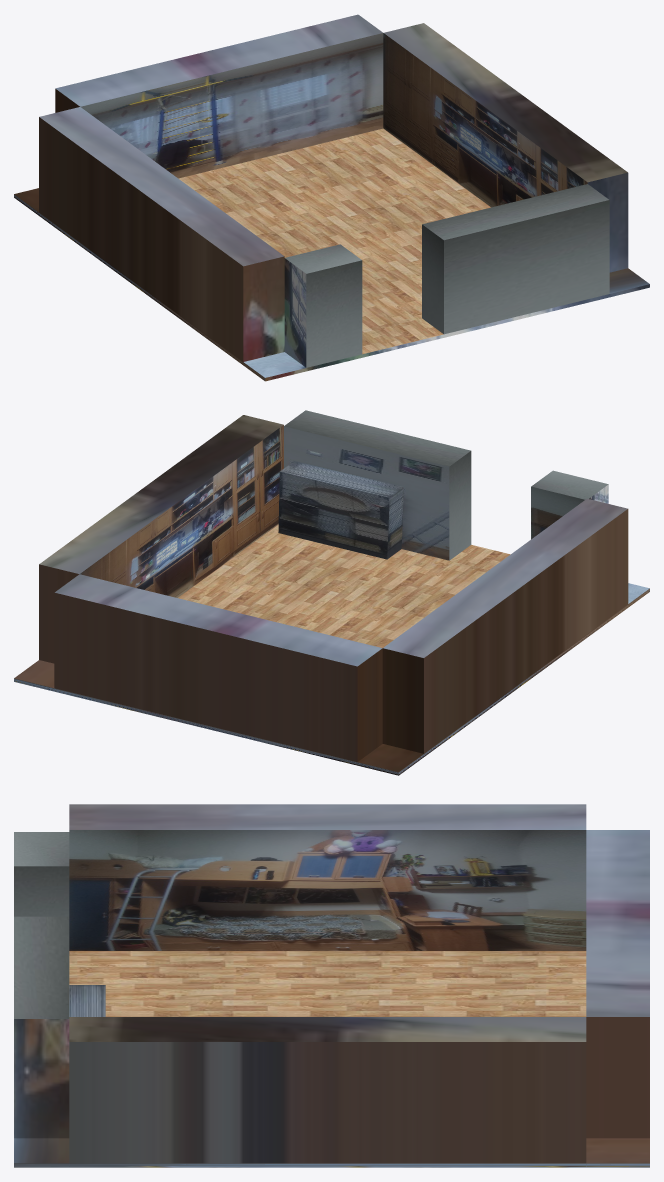
Rendered from Room.fbx.
3 views of the same model, one above another, from view 1: azimuth 30°, elevation 25°; view 2: azimuth 150°, elevation 25°; view 3: azimuth 270°, elevation 25° (orthographic). The views are drawn at different scales.
Visible parts, largest first — view 1: Cube; view 2: Cube; view 3: Cube.
Part boxes in pixels (left/top/right/bottom): Cube: left=14, top=14, right=649, bottom=381; Cube: left=14, top=410, right=649, bottom=775; Cube: left=14, top=804, right=649, bottom=1167.
Bounding box in the file's own units: 1046 × 257 × 1182.
